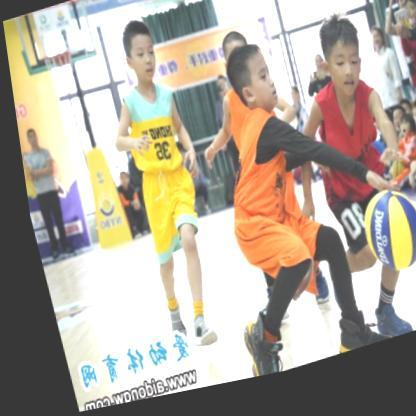basketball: (348, 195, 416, 292)
